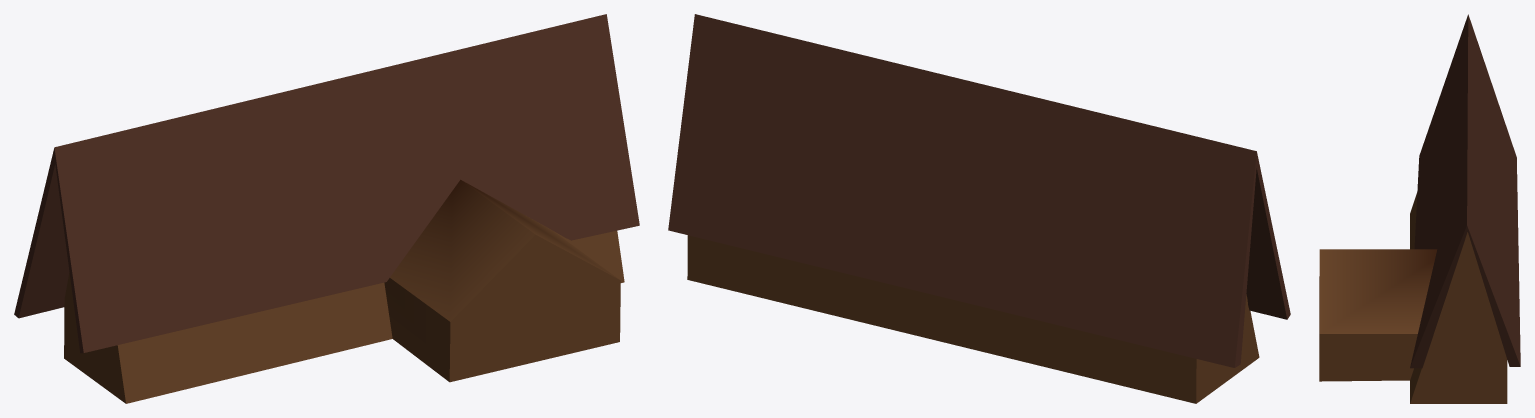
File: GrF House.glb
3 views of the same model, side by side, from view 1: azimuth 30°, elevation 25°; view 2: azimuth 150°, elevation 25°; view 3: azimuth 270°, elevation 25° (orthographic). The views are drawn at different scales.
Parts seen in each view (by area): view 1: Roof, House; view 2: Roof, House; view 3: House, Roof.
Part boxes in pixels (x1,y1,x2,y2): Roof: (14,14,639,353); House: (64,179,624,403); Roof: (668,14,1290,367); House: (687,235,1259,403); House: (1319,192,1507,403); Roof: (1410,14,1520,368).
Size of the model in its own units: 6.59 by 2.69 by 2.62.
